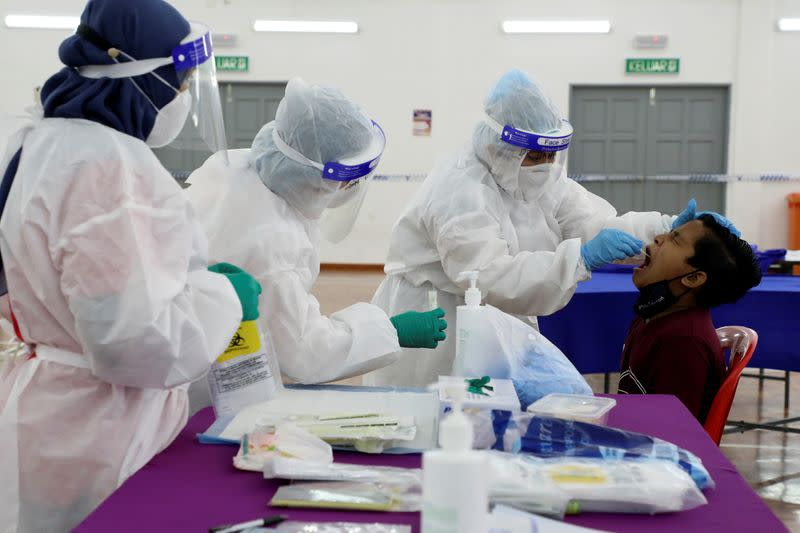Coverall: (1, 105, 240, 532), (367, 72, 668, 403), (163, 80, 392, 418)
Face_Shield: (316, 118, 391, 240), (494, 119, 578, 222), (168, 23, 231, 157)
Gloves: (213, 258, 273, 330), (579, 227, 646, 289), (670, 192, 754, 239), (386, 308, 448, 354)
mask_weared_incorrect: (629, 221, 707, 331)
with_mask: (142, 64, 200, 164), (319, 162, 366, 231), (513, 147, 560, 213)
